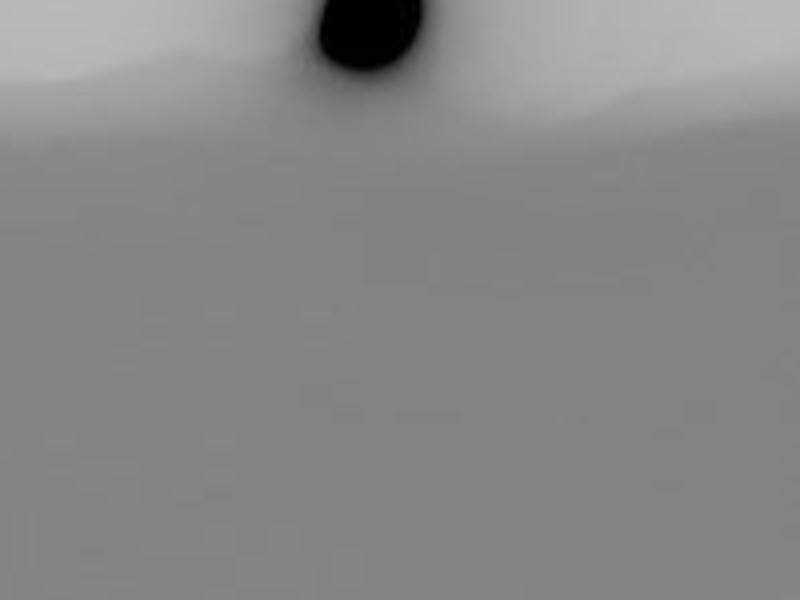defect: (317, 3, 425, 72)
